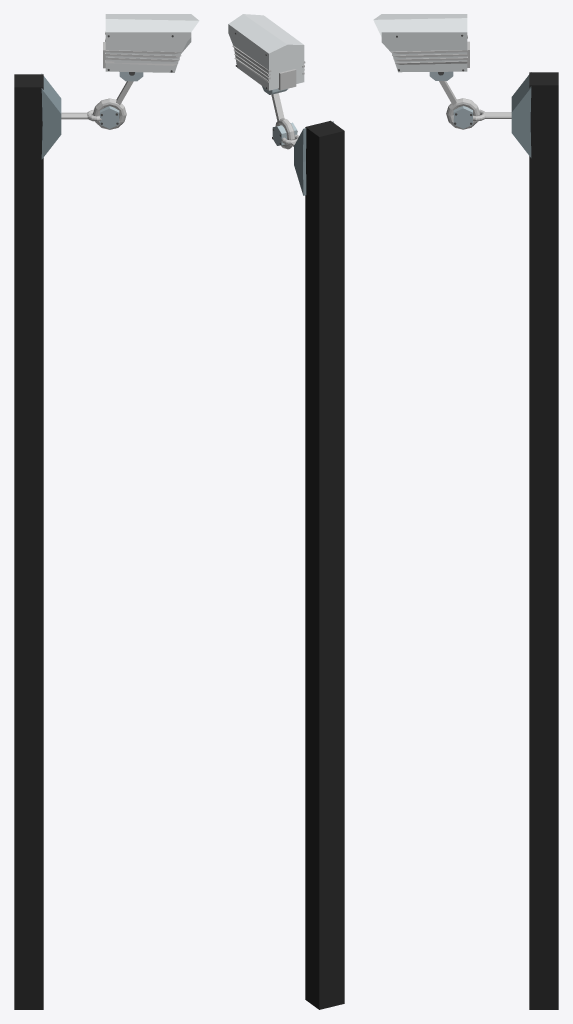
File: CCTV.glb
3 views of the same model, side by side, from view 1: azimuth 90°, elevation 25°; view 2: azimuth 210°, elevation 25°; view 3: azimuth 270°, elevation 25° (orthographic). The views are drawn at different scales.
Visible parts, largest first — view 1: Cube, mesh_1447428554_material_15___14039_0, mesh_1486721881_material_17___14039_0, mesh_1414799323_material_17___14039_0, mesh_730641048_material_22___14039_0; view 2: Cube, mesh_1447428554_material_15___14039_0, mesh_1414799323_material_17___14039_0, mesh_1486721881_material_17___14039_0, mesh_2010731906_material_22___14039_0; view 3: Cube, mesh_1447428554_material_15___14039_0, mesh_1486721881_material_17___14039_0, mesh_1414799323_material_17___14039_0, mesh_730641048_material_22___14039_0.
Boxes of the visible parts, x1=… form: Cube: x1=14, y1=74, x2=43, y2=1009; mesh_1447428554_material_15___14039_0: x1=105, y1=14, x2=199, y2=72; mesh_1486721881_material_17___14039_0: x1=41, y1=73, x2=61, y2=131; mesh_1414799323_material_17___14039_0: x1=41, y1=117, x2=61, y2=159; mesh_730641048_material_22___14039_0: x1=93, y1=98, x2=126, y2=129; Cube: x1=305, y1=120, x2=344, y2=1009; mesh_1447428554_material_15___14039_0: x1=228, y1=14, x2=304, y2=90; mesh_1414799323_material_17___14039_0: x1=294, y1=149, x2=306, y2=195; mesh_1486721881_material_17___14039_0: x1=294, y1=121, x2=333, y2=166; mesh_2010731906_material_22___14039_0: x1=278, y1=69, x2=296, y2=90; Cube: x1=529, y1=72, x2=558, y2=1009; mesh_1447428554_material_15___14039_0: x1=373, y1=14, x2=467, y2=72; mesh_1486721881_material_17___14039_0: x1=511, y1=74, x2=531, y2=130; mesh_1414799323_material_17___14039_0: x1=511, y1=115, x2=531, y2=157; mesh_730641048_material_22___14039_0: x1=446, y1=98, x2=479, y2=129.
Bounding box in the file's own units: 2.12 × 49.68 × 8.47.
